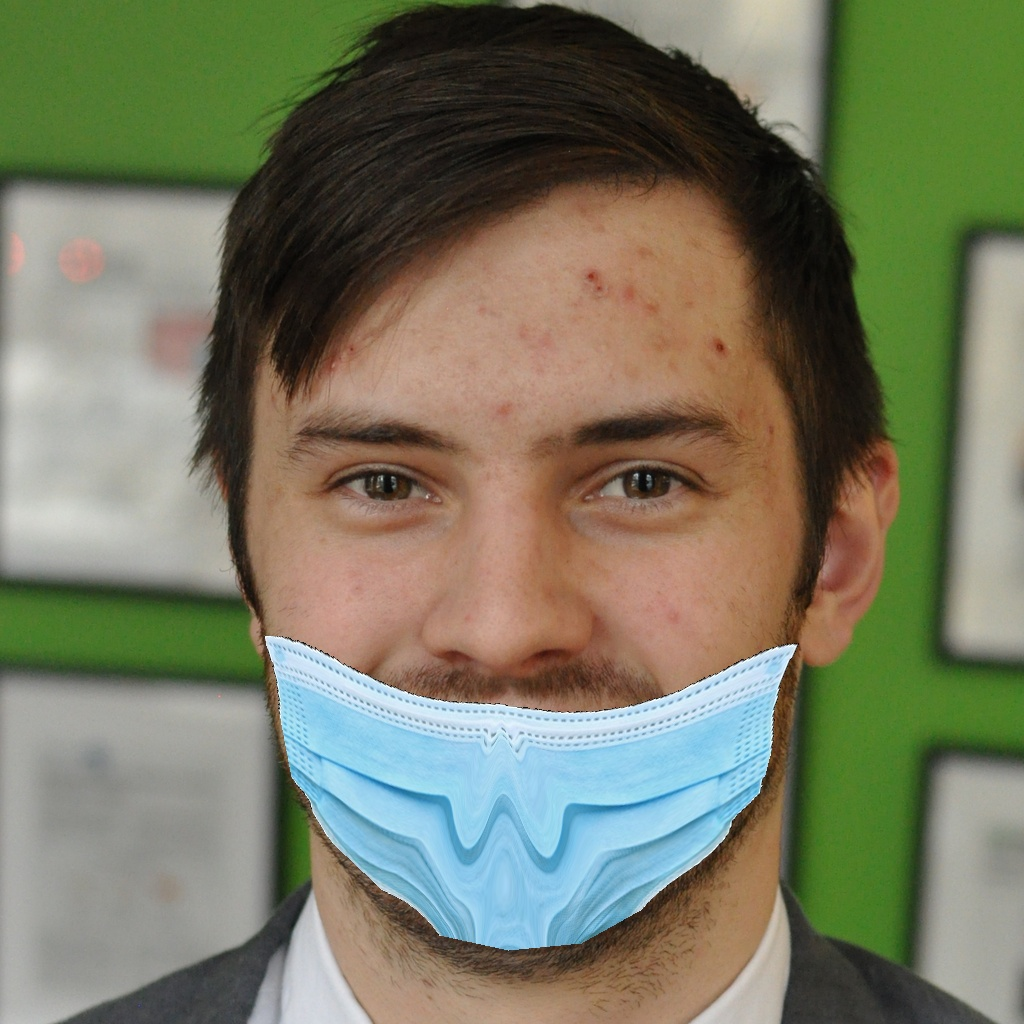mascarilla_mal_puesta: (257, 373, 812, 953)
